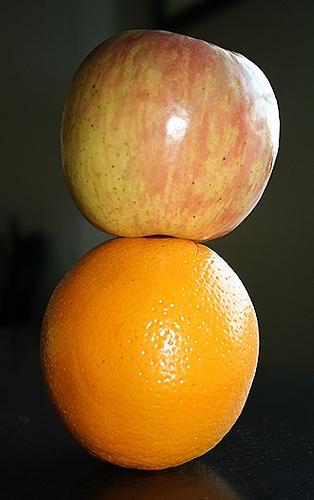apple: (61, 29, 281, 244)
